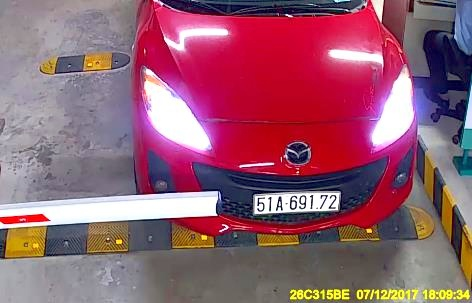plate: (249, 189, 343, 217)
